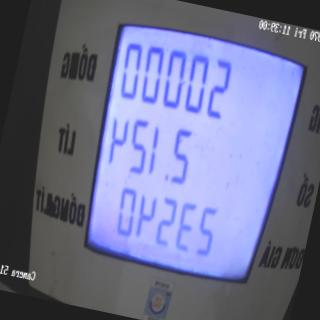screen: (64, 0, 317, 308)
